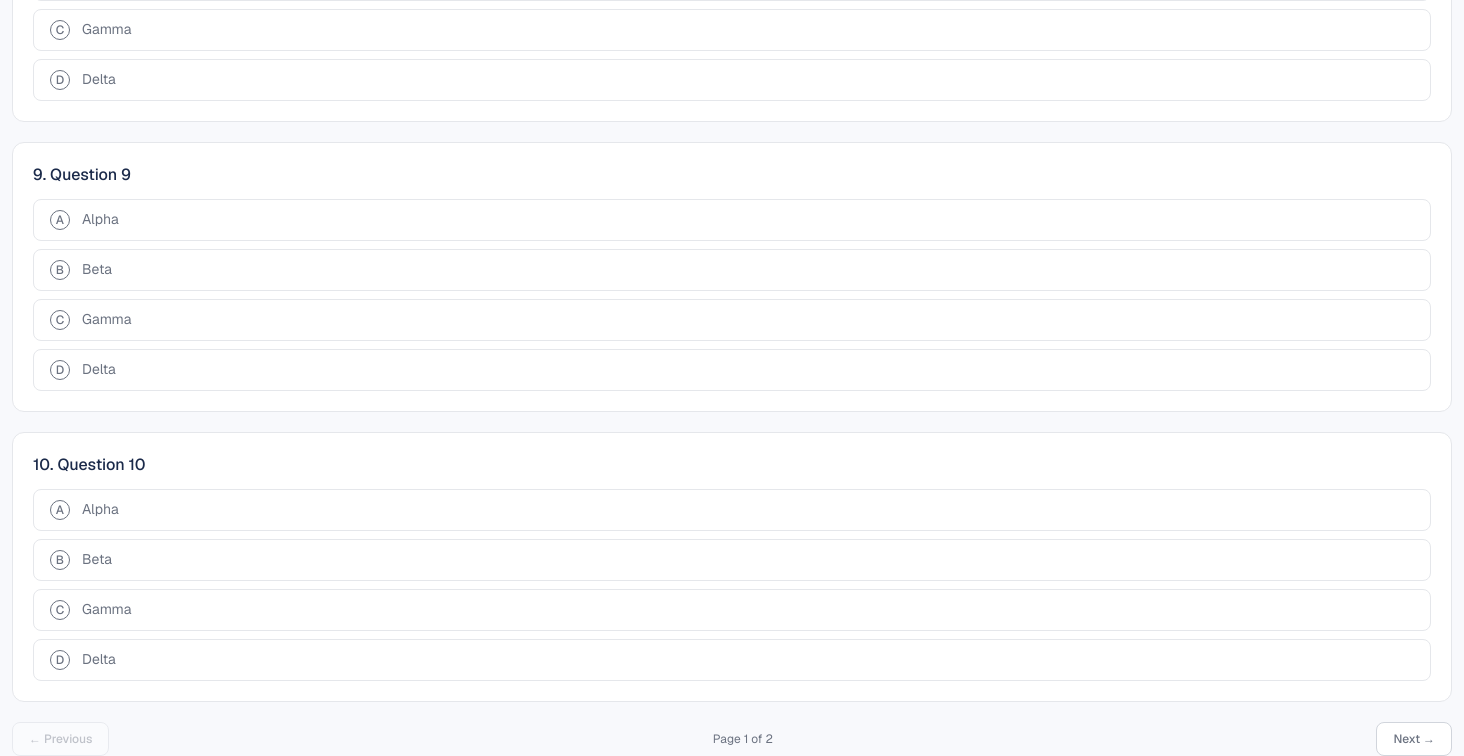
Test case: McqQuestions › paginates after 10 questions
The image size is (1464, 756).
(page scrolled)
Expected: the text "11. Question 11" is not shown
Expected: the text "Page 1 of 2" is shown, left=713, top=731, right=773, bottom=747
Click the button "Next →": [1414, 739] box left=1376, top=722, right=1452, bottom=755
(page scrolled)
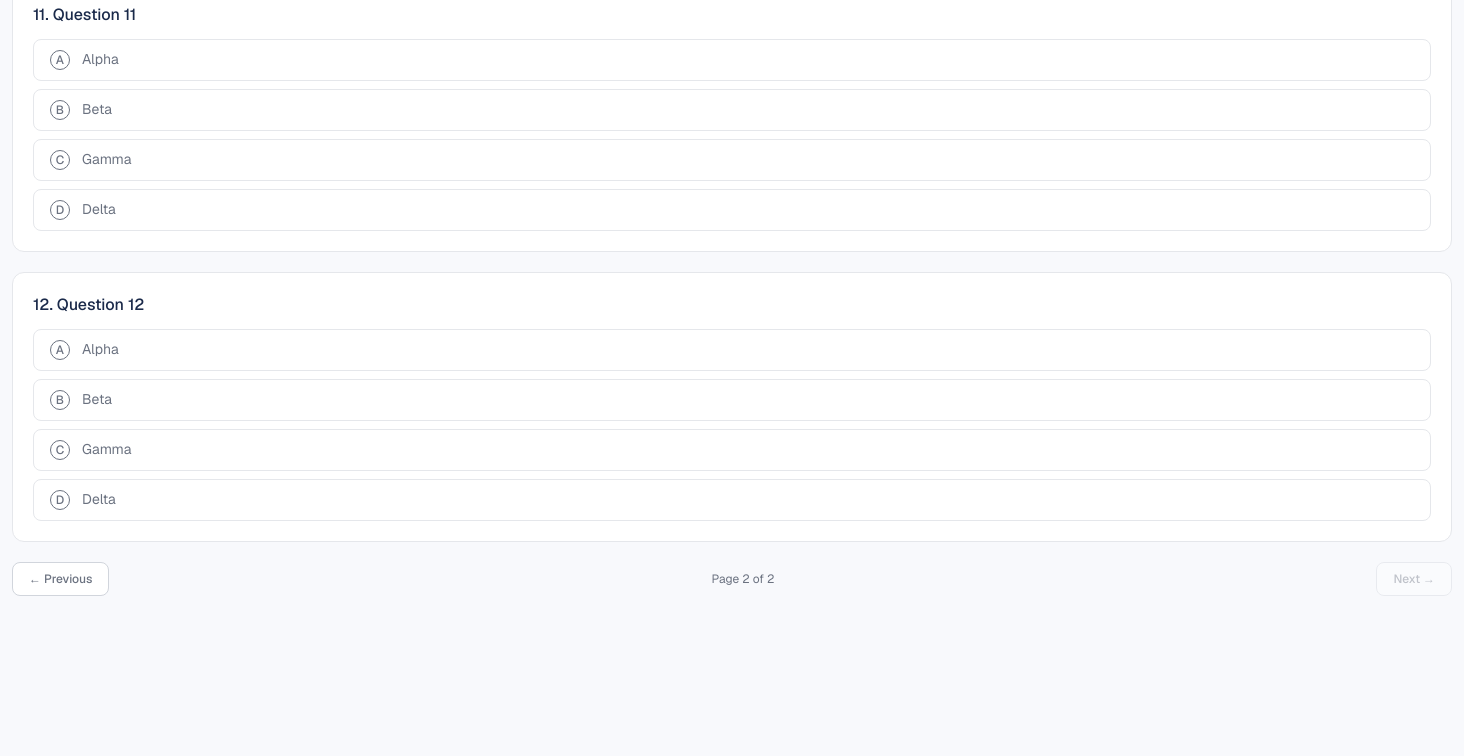
Result: the text "11. Question 11" is shown at left=33, top=4, right=136, bottom=25
